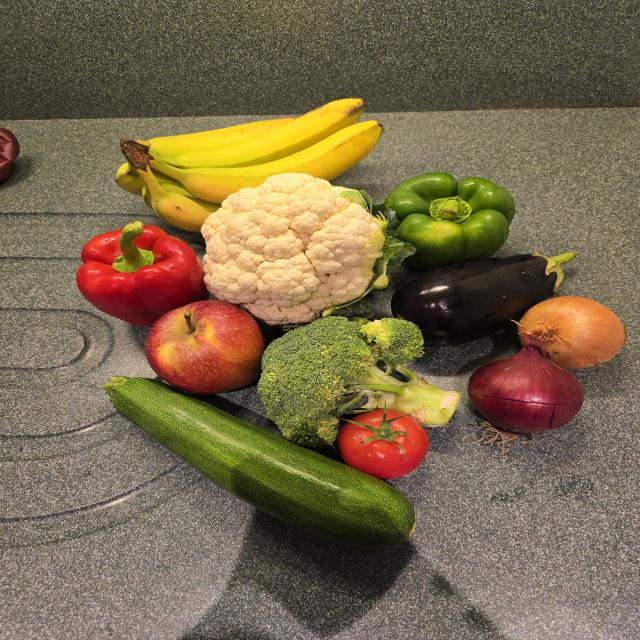Apple: (145, 300, 265, 394)
Banana: (116, 98, 386, 234)
Bell Pepper: (76, 226, 208, 326), (385, 172, 516, 272)
Broccoli: (258, 316, 460, 447)
Cauliflower: (199, 173, 408, 327)
Courgette: (103, 376, 415, 549)
Eggplant: (391, 252, 575, 346)
Onion: (468, 338, 584, 433), (518, 296, 626, 368)
Tomato: (336, 409, 429, 479)
